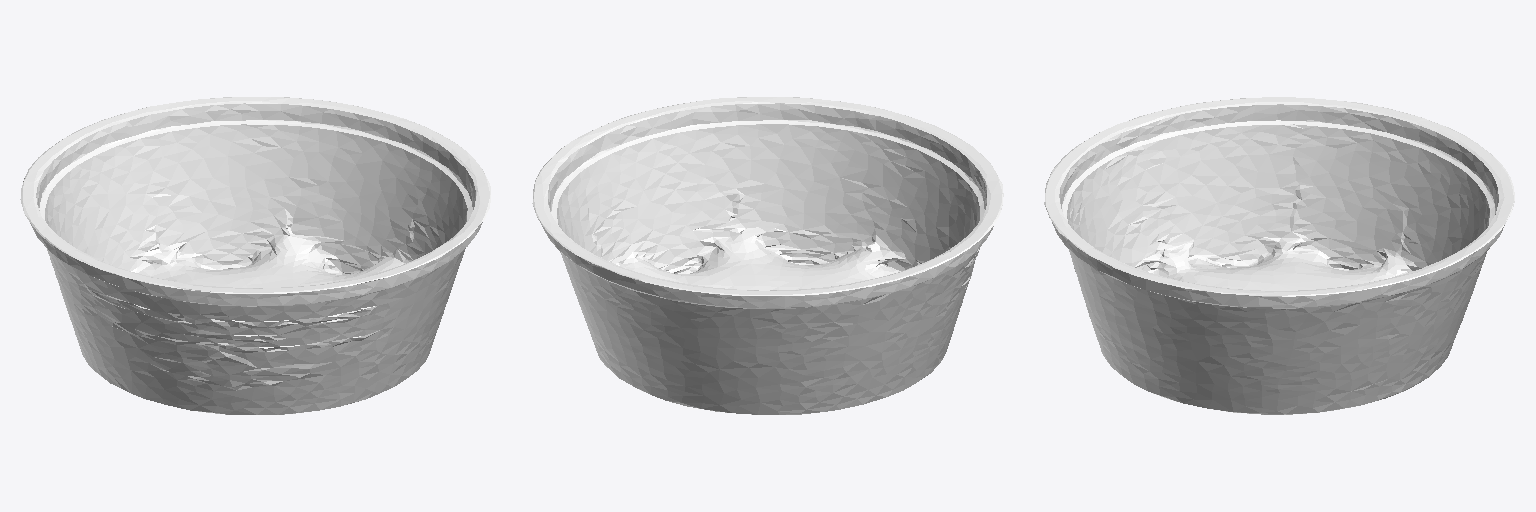
URDF robot description (bowl.urdf):
<?xml version="1.0" ?>
<robot name="bowl.urdf">
  <link name="baseLink">
    <contact>
      <lateral_friction value="1.0"/>
      <inertia_scaling value="3.0"/>
    </contact>
    <inertial>
      <origin rpy="0 0 0" xyz="-0.01 0 0.02"/>
       <mass value=".1"/>
       <inertia ixx="1" ixy="0" ixz="0" iyy="1" iyz="0" izz="1"/>
    </inertial>
    <visual>
      <origin rpy="0 0 0" xyz="0 0 0"/>
      <geometry>
				<mesh filename="textured-0008192.obj" scale="2.2 2.2 0.5"/>
      </geometry>
      <material name="dummy">
        <color rgba="1 1 1 1"/>
      </material>
    </visual>
    <collision>
      <origin rpy="0 0 0" xyz="0 0 0"/>
      <geometry>
	 	    <mesh filename="cup.obj" scale="2.2 2.2 0.4"/>
      </geometry>
    </collision>
  </link>
</robot>

--- What the picture shows (computed from the rendered views, not written in the file) ---
Views: 3 orthographic renders of the robot side by side, from view 1: azimuth 30°, elevation 25°; view 2: azimuth 150°, elevation 25°; view 3: azimuth 270°, elevation 25°.
Robot: bowl.urdf — 1 links, 0 joints (none); root link baseLink; default pose: every joint at zero.
Visible links, largest first — view 1: baseLink; view 2: baseLink; view 3: baseLink.
Link boxes in pixels (left/top/right/bottom): baseLink: left=20, top=97, right=490, bottom=414; baseLink: left=532, top=97, right=1003, bottom=414; baseLink: left=1044, top=97, right=1514, bottom=414.
Size in the robot's own frame: 0.2004 by 0.2005 by 0.0692 metres.
Meshes: 1 distinct files referenced, 1 mesh visuals loaded (1 OBJ).